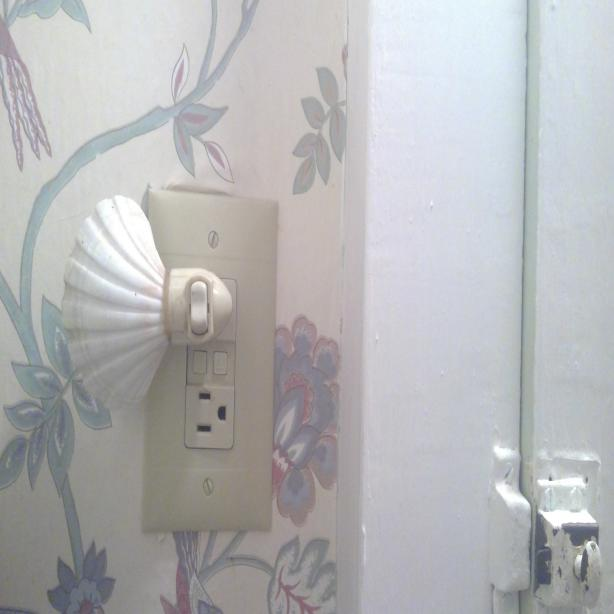typeb: (188, 386, 232, 443), (90, 101, 101, 105)
